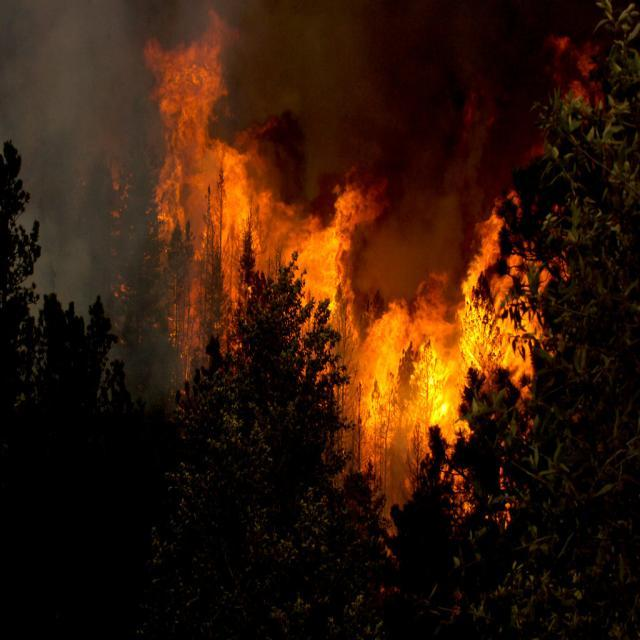Fire: (146, 56, 255, 278), (358, 296, 458, 480), (468, 255, 538, 370), (274, 203, 346, 294)
